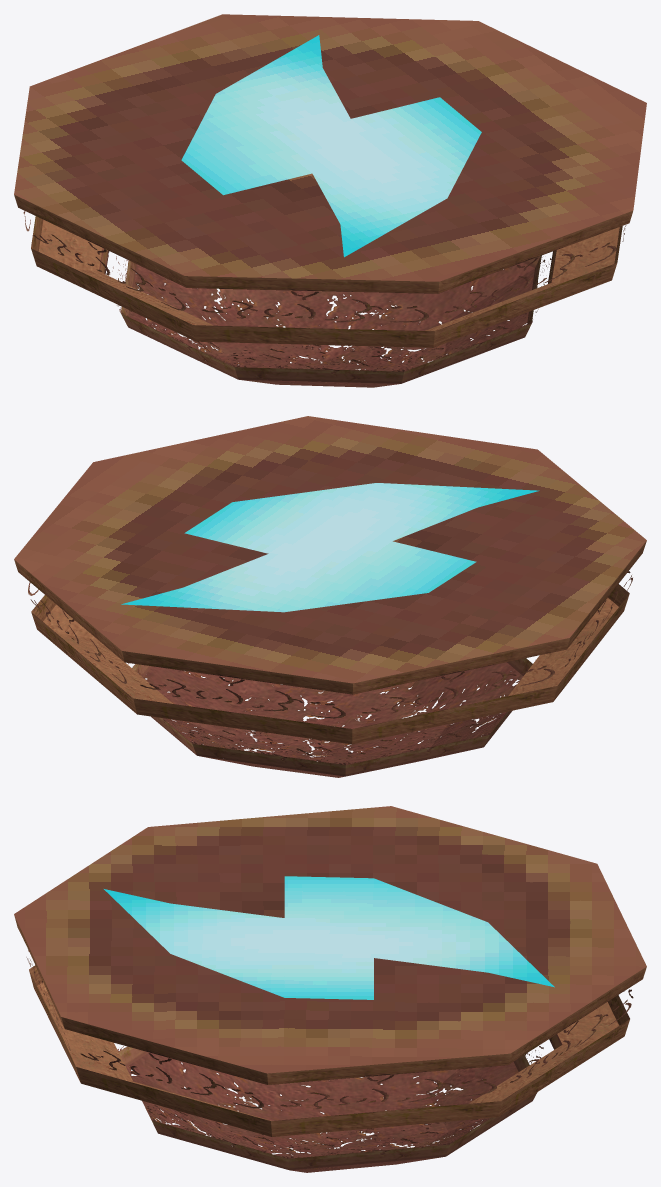
File: plat-eco-lit-lod1.glb
The picture shows the model from 3 angles, top to bottom: view 1: azimuth 30°, elevation 25°; view 2: azimuth 150°, elevation 25°; view 3: azimuth 270°, elevation 25°; orthographic projection. The views are drawn at different scales.
Parts seen in each view (by area): view 1: plat-eco-lit-lod1; view 2: plat-eco-lit-lod1; view 3: plat-eco-lit-lod1.
Part boxes in pixels (x1,y1,x2,y2): plat-eco-lit-lod1: [14, 14, 646, 387]; plat-eco-lit-lod1: [14, 416, 646, 777]; plat-eco-lit-lod1: [14, 806, 646, 1172].
Bounding box in the file's own units: 4.96 × 1.77 × 4.96.
Materials: 6 (6 with a texture image).
